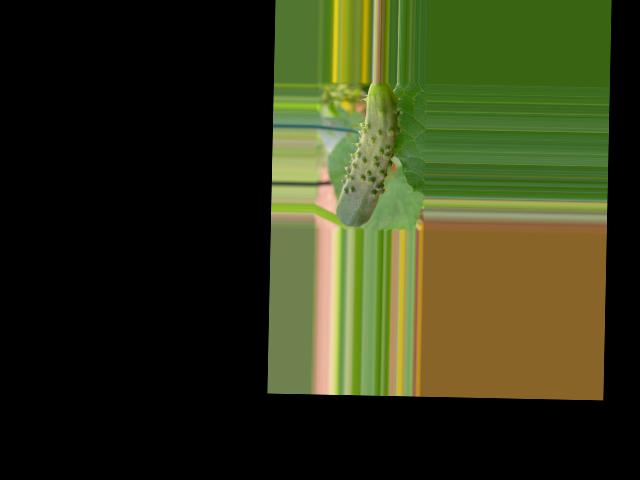cucumber: (336, 82, 401, 228)
